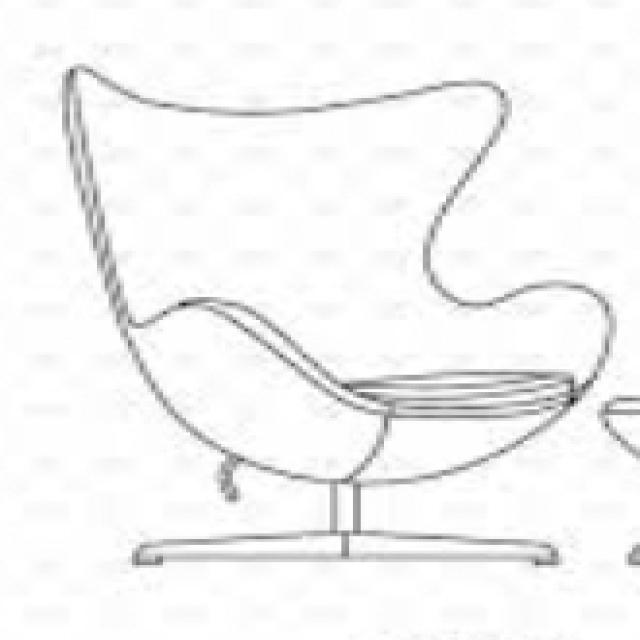egg_armrest: (47, 56, 634, 507)
